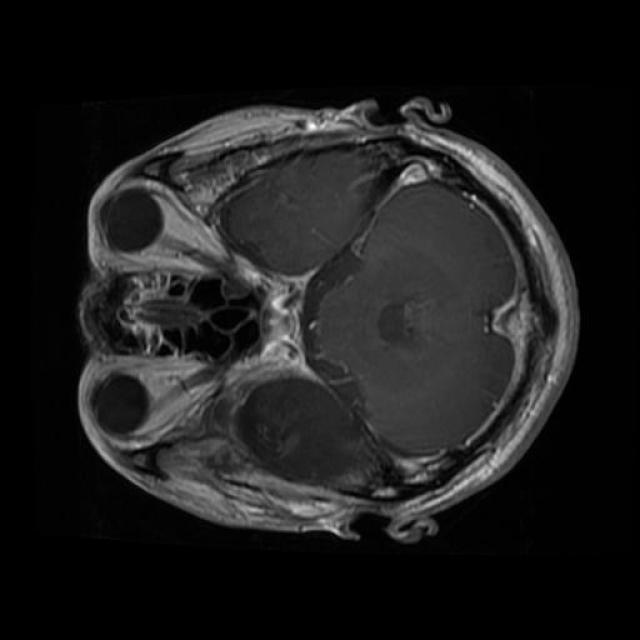Glioma: (234, 376, 370, 489)
